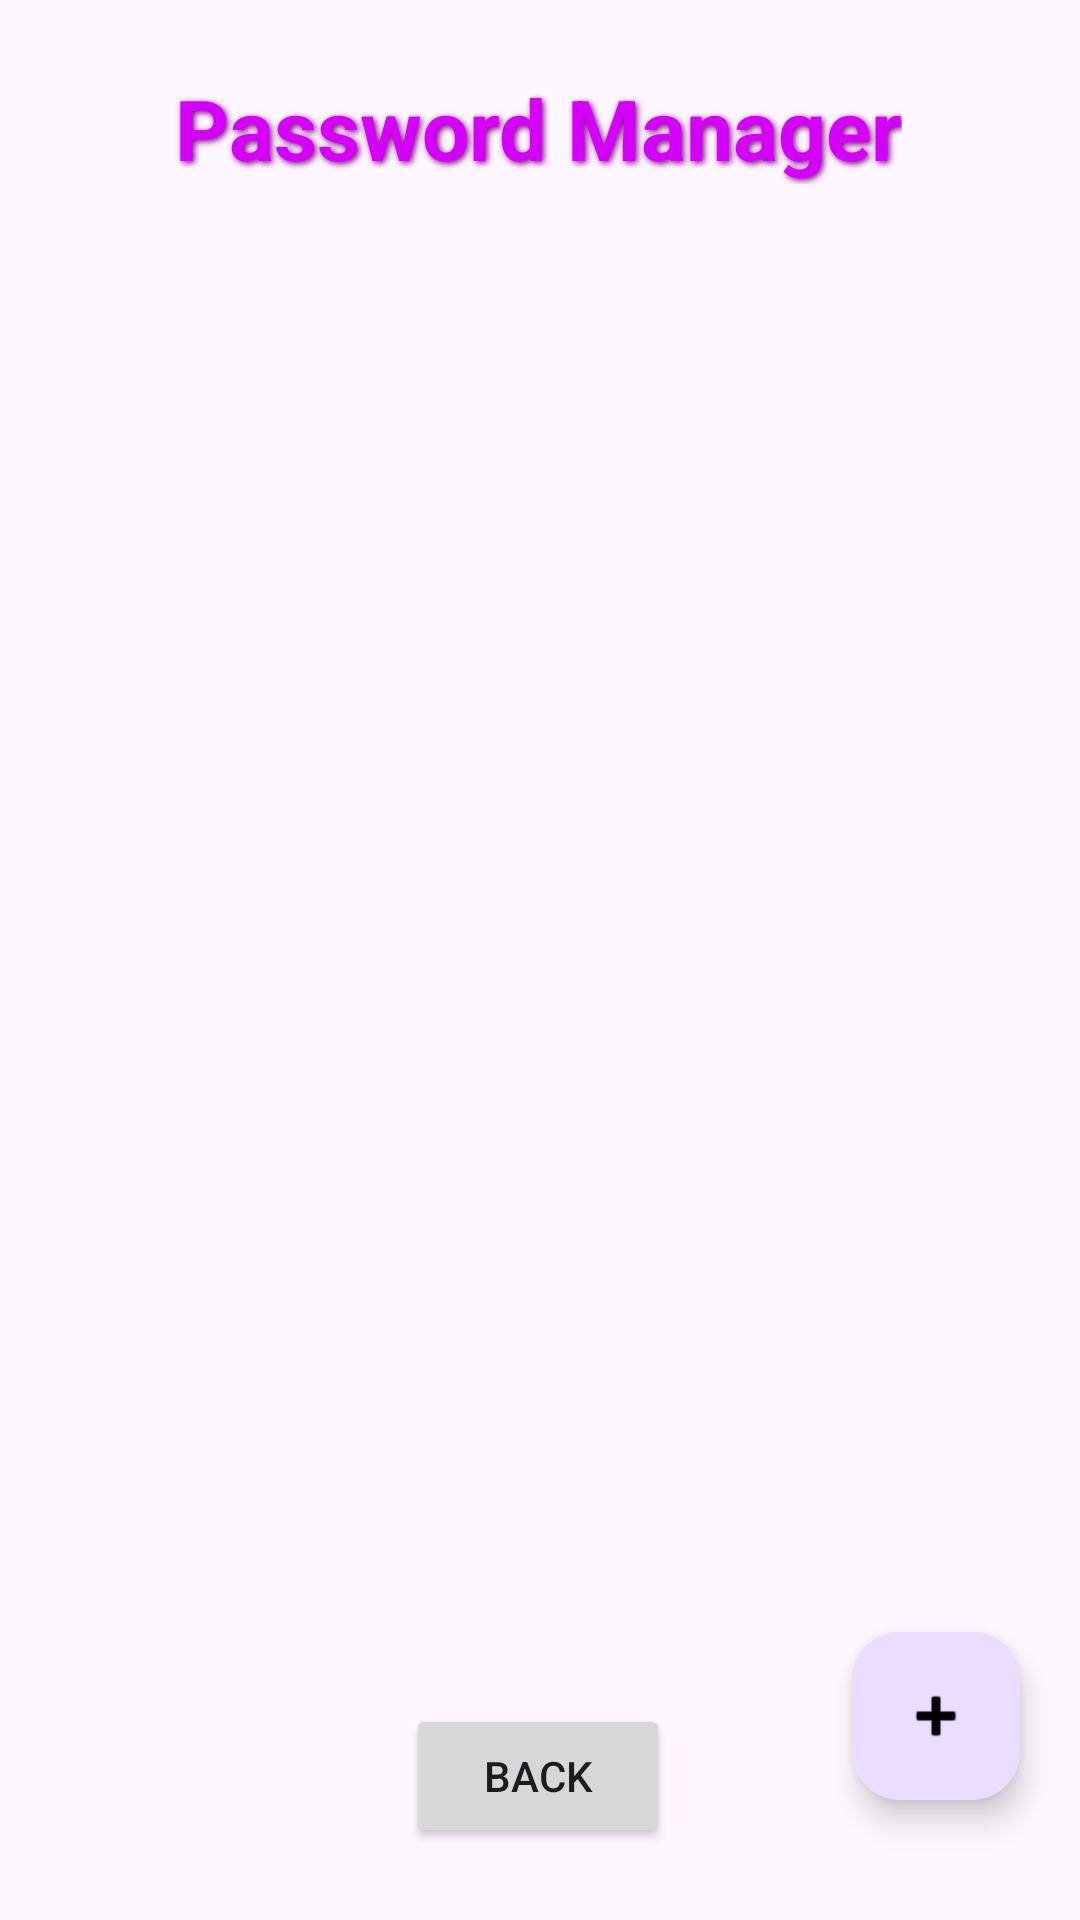

Point at icon controls on the screen. Image size 1080*1920, points as [x,y].
Add Password: [936,1716]
